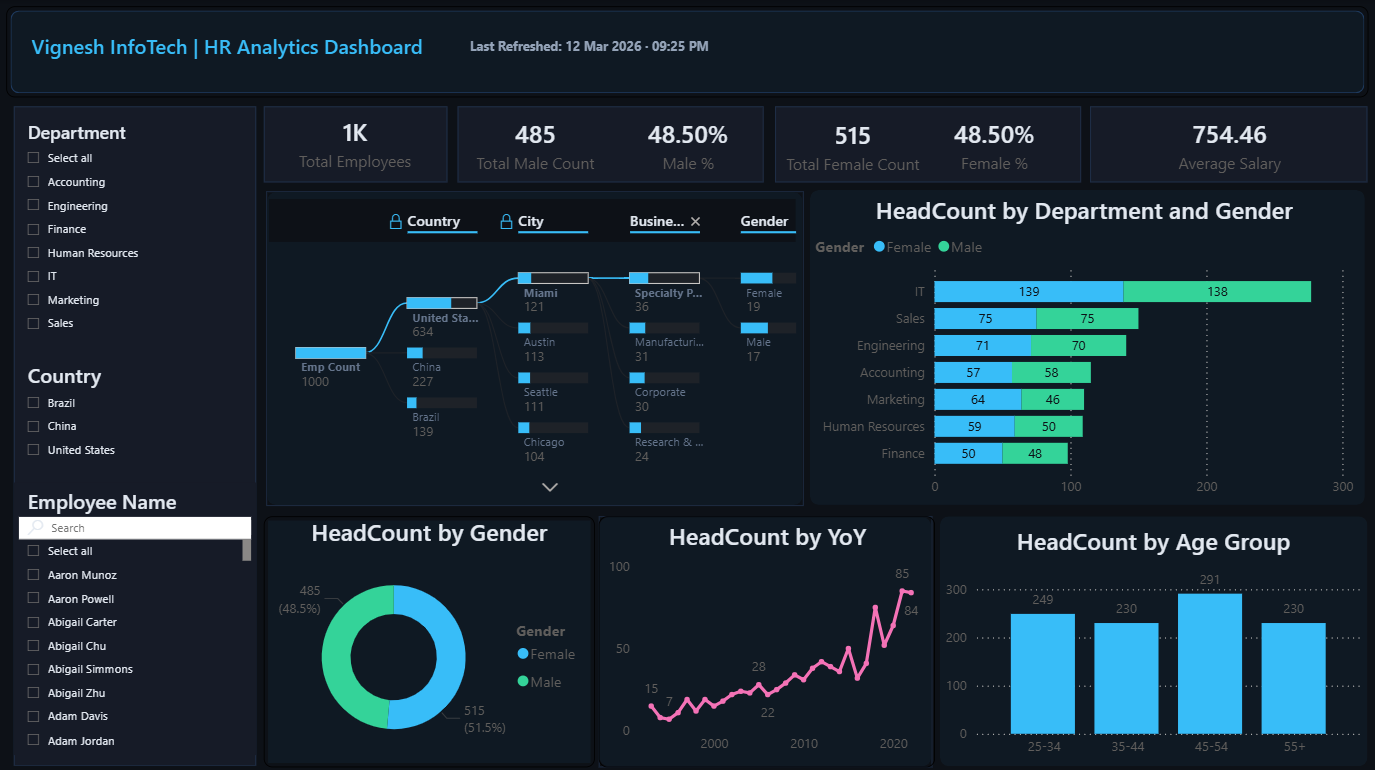

The dashboard page shown, as its layout file describes it:
{"tool":"powerbi","page":{"name":"Summary","canvas":[1280,720],"ordinal":1},"visuals":[{"type":"shape","box":[1014,98.8,258.1,70.9],"z":0},{"type":"shape","box":[247.7,177.9,500,293],"z":1000},{"type":"shape","box":[425.6,98.8,284.9,70.9],"z":2000},{"type":"shape","box":[12.8,98.8,225.6,614],"z":3000},{"type":"shape","box":[245.3,98.8,170.9,70.9],"z":4000},{"type":"shape","box":[5.8,5.8,1267.4,84.9],"z":5000},{"type":"textbox","box":[24.4,25.6,401.2,46.5],"z":6000},{"type":"cardVisual","fields":{"Data":["Employee Data.Last Refresh"]},"box":[408.1,11.6,286,60.5],"z":7000},{"type":"slicer","fields":{"Values":["Employee Data.Department"]},"box":[12.8,107,225.6,211.6],"z":8000},{"type":"slicer","fields":{"Values":["Employee Data.Country"]},"box":[12.8,331.4,225.6,117.4],"z":9000},{"type":"slicer","fields":{"Values":["Employee Data.Full Name"]},"box":[12.8,448.8,225.6,253.5],"z":10000},{"type":"cardVisual","fields":{"Data":["Employee Data.HeadCount"]},"box":[245.3,101.2,170.9,70.9],"z":11000},{"type":"cardVisual","fields":{"Data":["Employee Data.Total Male Count"]},"box":[425.6,98.8,143,70.9],"z":12000},{"type":"cardVisual","fields":{"Data":["Employee Data.Male %"]},"box":[568.6,98.8,141.9,70.9],"z":13000},{"type":"shape","box":[720.9,98.8,284.9,70.9],"z":14000},{"type":"cardVisual","fields":{"Data":["Employee Data.Total Female Count"]},"box":[720.9,100,143,70.9],"z":15000},{"type":"cardVisual","fields":{"Data":["Employee Data.Female %"]},"box":[853.5,98.8,141.9,70.9],"z":16000},{"type":"decompositionTreeVisual","fields":{"Analyze":["Employee Data.HeadCount"],"ExplainBy":["Employee Data.Country","Employee Data.City","Employee Data.Business Unit","Employee Data.Gender"]},"box":[245.3,180.2,500,289.5],"z":17000},{"type":"shape","box":[753.5,176.7,516.3,293],"z":18000},{"type":"barChart","fields":{"Category":["Employee Data.Department"],"Y":["Employee Data.HeadCount"],"Series":["Employee Data.Gender"]},"box":[753.5,180.2,510.5,290.7],"z":19000},{"type":"shape","box":[245.3,480.2,308.1,233.7],"z":20000},{"type":"donutChart","fields":{"Y":["Employee Data.HeadCount"],"Category":["Employee Data.Gender"]},"box":[247.7,480.2,303.5,233.7],"z":21000},{"type":"shape","box":[557,480.2,310.5,233.7],"z":22000},{"type":"lineChart","title":"HeadCount by YoY","fields":{"Category":["Employee Data.Hire Date.Variation.Date Hierarchy.Year"],"Y":["Employee Data.HeadCount"]},"box":[557,480.2,312.8,233.7],"z":23000},{"type":"shape","box":[874.4,480.2,397.7,232.6],"z":24000},{"type":"columnChart","fields":{"Category":["Employee Data.Age Group"],"Y":["Employee Data.HeadCount"]},"box":[882.6,486,397.7,224.4],"z":25000},{"type":"cardVisual","fields":{"Data":["Employee Data.Avg Salary"]},"box":[1014,98.8,258.1,70.9],"z":26000}]}

Visuals, with their boxes in screenshot pixels (x1, y1, x2, y2), scaled from the page's 1280x720 canvas onto the 1375x770 screenshot:
shape: BBox(1089, 106, 1367, 181)
shape: BBox(266, 190, 803, 504)
shape: BBox(457, 106, 763, 181)
shape: BBox(14, 106, 256, 762)
shape: BBox(264, 106, 447, 181)
shape: BBox(6, 6, 1368, 97)
textbox: BBox(26, 27, 457, 77)
cardVisual - Employee Data.Last Refresh: BBox(438, 12, 746, 77)
slicer - Employee Data.Department: BBox(14, 114, 256, 341)
slicer - Employee Data.Country: BBox(14, 354, 256, 480)
slicer - Employee Data.Full Name: BBox(14, 480, 256, 751)
cardVisual - Employee Data.HeadCount: BBox(264, 108, 447, 184)
cardVisual - Employee Data.Total Male Count: BBox(457, 106, 611, 181)
cardVisual - Employee Data.Male %: BBox(611, 106, 763, 181)
shape: BBox(774, 106, 1080, 181)
cardVisual - Employee Data.Total Female Count: BBox(774, 107, 928, 183)
cardVisual - Employee Data.Female %: BBox(917, 106, 1069, 181)
decompositionTreeVisual - Employee Data.HeadCount x Employee Data.Country: BBox(264, 193, 801, 502)
shape: BBox(809, 189, 1364, 502)
barChart - Employee Data.Department x Employee Data.HeadCount: BBox(809, 193, 1358, 504)
shape: BBox(264, 514, 594, 763)
donutChart - Employee Data.HeadCount x Employee Data.Gender: BBox(266, 514, 592, 763)
shape: BBox(598, 514, 932, 763)
"HeadCount by YoY" lineChart: BBox(598, 514, 934, 763)
shape: BBox(939, 514, 1367, 762)
columnChart - Employee Data.Age Group x Employee Data.HeadCount: BBox(948, 520, 1374, 760)
cardVisual - Employee Data.Avg Salary: BBox(1089, 106, 1367, 181)
